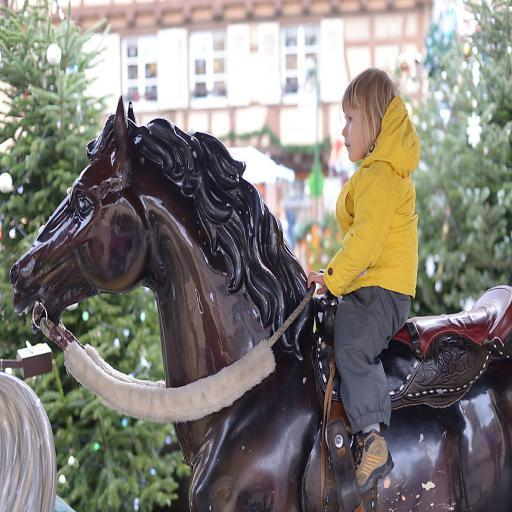horse: (8, 94, 512, 512), (0, 368, 74, 512)
